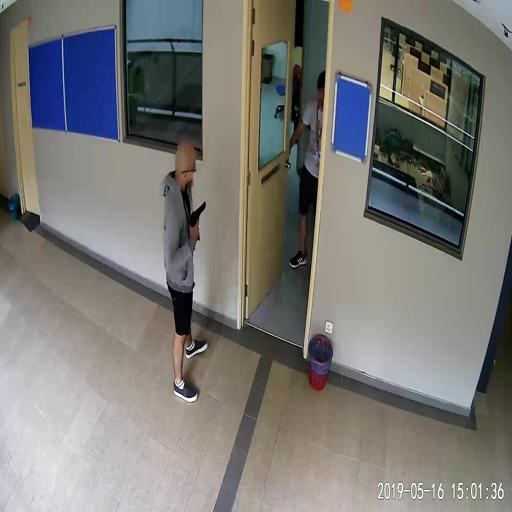pistol: (189, 200, 205, 235)
